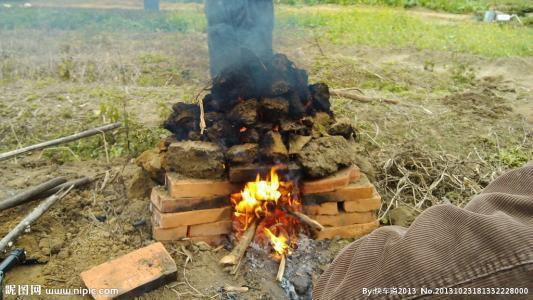fire: (234, 161, 286, 216), (254, 220, 299, 259)
